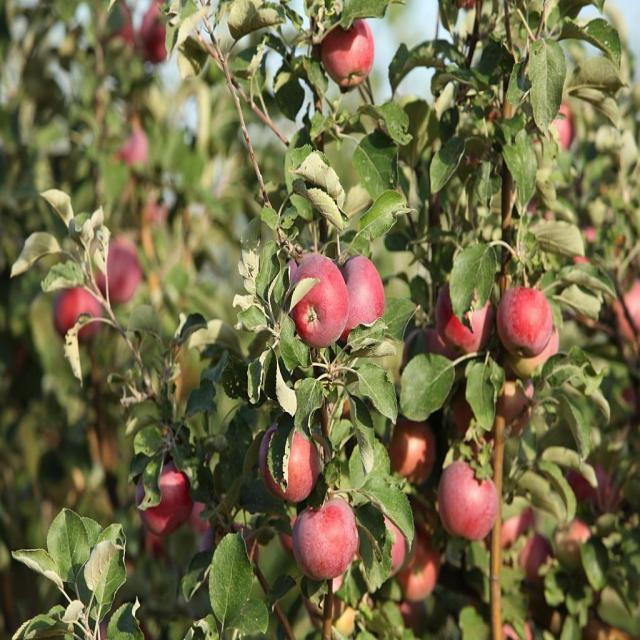Red Apple: (294, 495, 362, 582), (438, 461, 498, 544), (267, 419, 318, 506), (296, 256, 348, 341), (503, 283, 558, 360), (438, 282, 493, 358), (337, 256, 387, 326), (321, 20, 374, 85), (140, 467, 190, 535), (391, 419, 436, 488), (132, 4, 176, 67), (494, 509, 540, 569), (402, 537, 441, 602), (57, 289, 102, 345), (490, 379, 537, 432), (576, 462, 619, 513), (378, 507, 413, 565), (114, 118, 152, 171), (105, 242, 140, 298), (451, 400, 489, 451), (550, 523, 595, 559), (548, 100, 585, 143), (613, 280, 640, 334), (186, 499, 217, 539), (580, 227, 599, 265), (504, 623, 532, 640)
